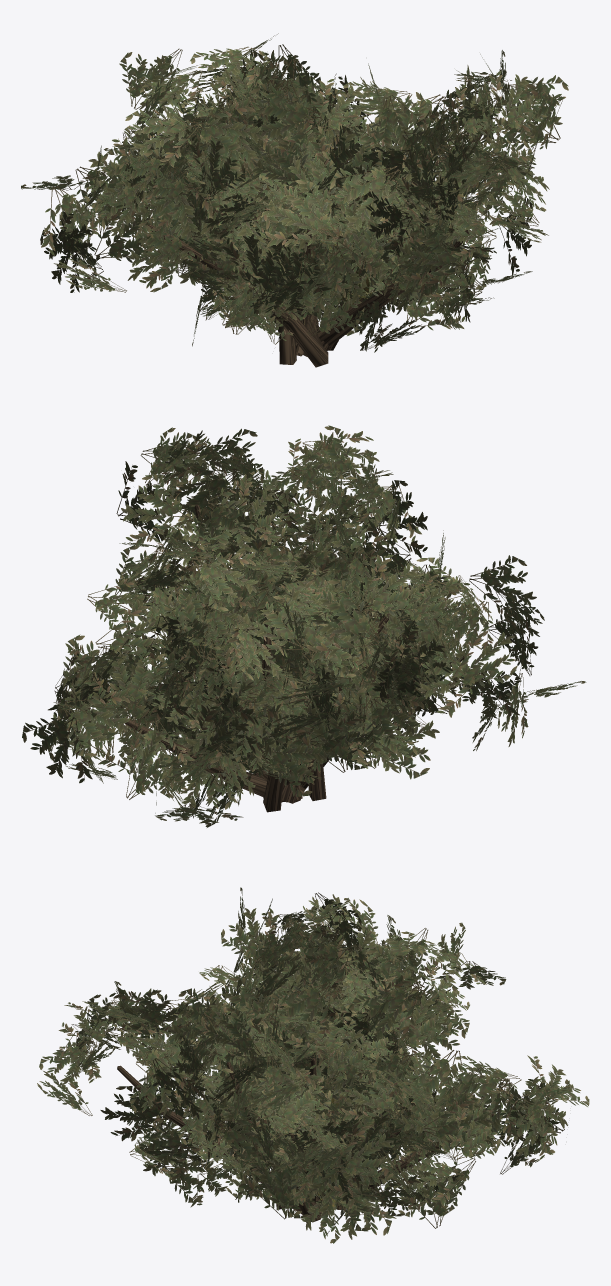
The model's file is b06_shrub.glb.
3 views of the same model, one above another, from view 1: azimuth 30°, elevation 25°; view 2: azimuth 150°, elevation 25°; view 3: azimuth 270°, elevation 25° (orthographic). The views are drawn at different scales.
Parts seen in each view (by area): view 1: b06_shrub; view 2: b06_shrub; view 3: b06_shrub.
Boxes of the visible parts, bbox=[...] form: b06_shrub: bbox=[21, 33, 568, 367]; b06_shrub: bbox=[22, 425, 586, 827]; b06_shrub: bbox=[37, 887, 589, 1243].
Bounding box in the file's own units: 0.9779 × 0.6126 × 1.
2 materials, 2 textured.
